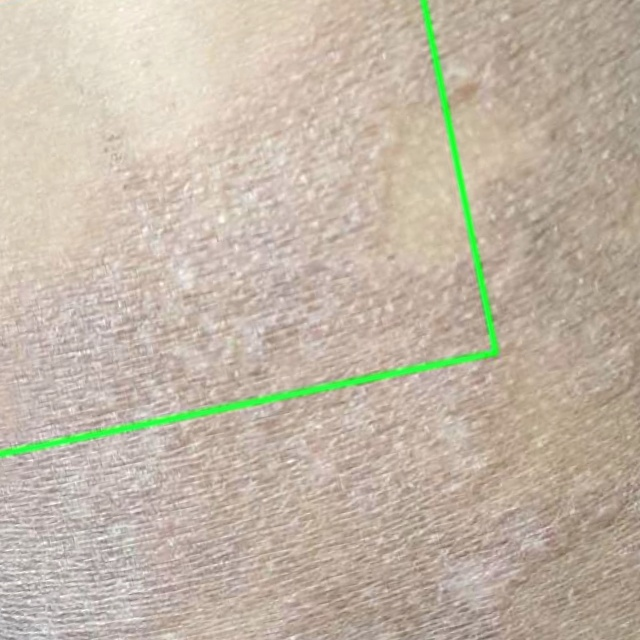Tinea Corporis: (0, 0, 495, 454)
